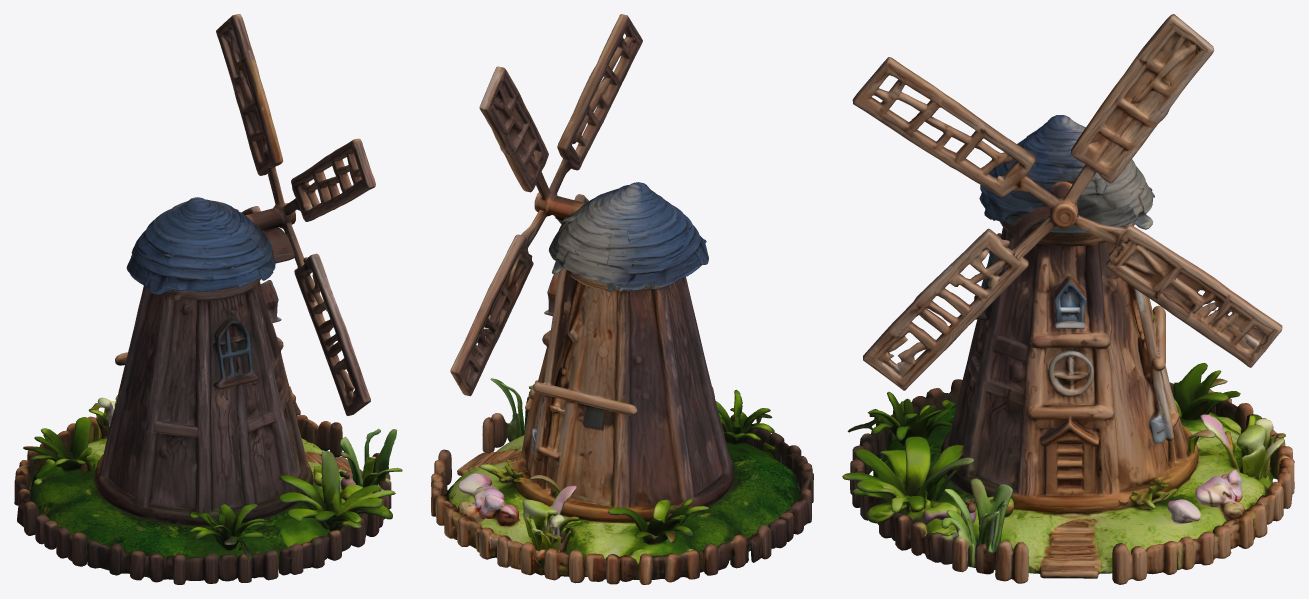
The model's file is prop-windmill-small.glb.
3 renders of one model, left to right at view 1: azimuth 30°, elevation 25°; view 2: azimuth 150°, elevation 25°; view 3: azimuth 270°, elevation 25°, orthographic. The views are drawn at different scales.
Visible parts, largest first — view 1: tripo_node_b27221cd-e9ed-4a83-84da-b65bc57f489e; view 2: tripo_node_b27221cd-e9ed-4a83-84da-b65bc57f489e; view 3: tripo_node_b27221cd-e9ed-4a83-84da-b65bc57f489e.
Boxes of the visible parts, x1,y1,x2,y2 form: tripo_node_b27221cd-e9ed-4a83-84da-b65bc57f489e: (14, 14, 402, 584); tripo_node_b27221cd-e9ed-4a83-84da-b65bc57f489e: (431, 14, 813, 584); tripo_node_b27221cd-e9ed-4a83-84da-b65bc57f489e: (842, 14, 1294, 584).
Bounding box in the file's own units: 1.91 × 2.5 × 1.96.
Materials: 1 (1 with a texture image).
